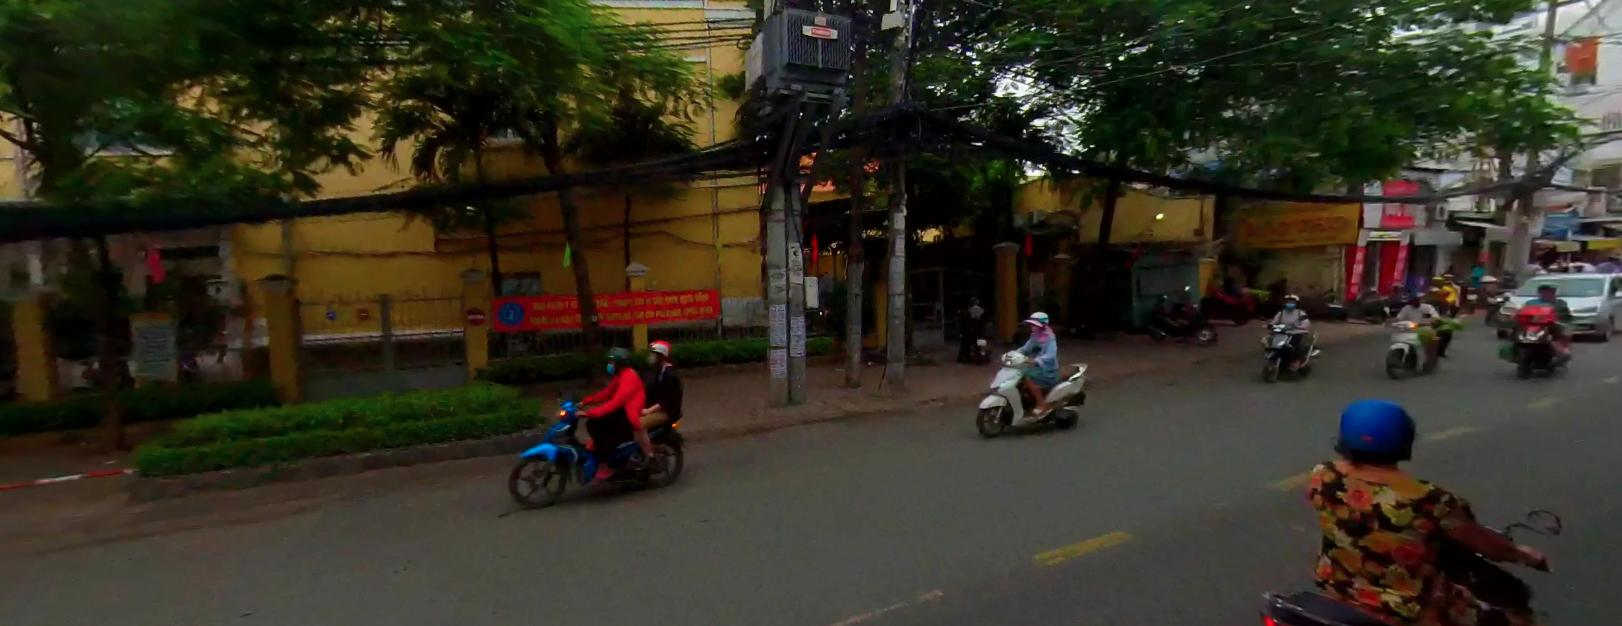Cam nguoc chieu: (465, 304, 486, 322), (357, 307, 369, 318)
Hieu lenh: (324, 308, 335, 318)
